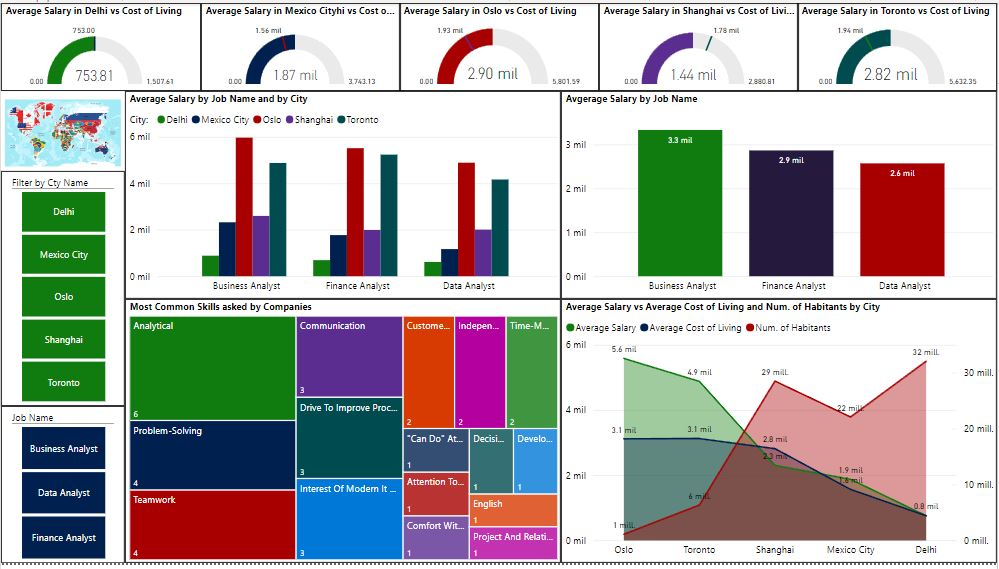

The page's visual inventory and layout, read from the dashboard file:
{"tool":"powerbi","page":{"name":"Página 1","canvas":[1280,720],"ordinal":1},"visuals":[{"type":"image","box":[0,36,159.4,260.9],"z":500},{"type":"clusteredColumnChart","title":"Avgerage Salary by Job Name","fields":{"Y":["Avg(jobs_countries_analysis careers.avg_salary)"],"Category":["jobs_countries_analysis jobs.job_name"]},"box":[719.7,113.1,560.3,267.3],"z":1000},{"type":"areaChart","title":"Average Salary vs Average Cost of Living and Num. of Habitants by City","fields":{"Category":["jobs_countries_analysis city.city_name"],"Y":["Avg(jobs_countries_analysis careers.avg_salary)","Avg(jobs_countries_analysis city.cost_of_living)"],"Y2":["Avg(jobs_countries_analysis city.num_of_habitants)"]},"box":[719.7,380.4,560.3,339.3],"z":2000},{"type":"clusteredColumnChart","title":"Average Salary by Job Name and by City","fields":{"Category":["jobs_countries_analysis jobs.job_name"],"Series":["jobs_countries_analysis city.city_name"],"Y":["Avg(jobs_countries_analysis careers.avg_salary)"]},"box":[159.4,113.1,560.3,267.3],"z":3000},{"type":"treemap","title":"Most Common Skills asked by Companies","fields":{"Group":["jobs_countries_analysis skills.skill_name"],"Values":["CountNonNull(jobs_countries_analysis skills_req.skill_id)"]},"box":[159.4,380.4,560.3,339.3],"z":4000},{"type":"slicer","fields":{"Values":["jobs_countries_analysis city.city_name"]},"box":[0,215.9,159.4,302],"z":5000},{"type":"slicer","fields":{"Values":["jobs_countries_analysis jobs.job_name"]},"box":[0,517.9,159.4,201.8],"z":6000},{"type":"gauge","title":"Average Salary in Delhi vs Cost of Living","fields":{"TargetValue":["Avg(jobs_countries_analysis city.cost_of_living)"],"Y":["Avg(jobs_countries_analysis careers.avg_salary)"]},"box":[0,0,257,113.1],"z":7000},{"type":"gauge","title":"Average Salary in Mexico Cityhi vs Cost of Living","fields":{"TargetValue":["Avg(jobs_countries_analysis city.cost_of_living)"],"Y":["Avg(jobs_countries_analysis careers.avg_salary)"]},"box":[257,0,257,113.1],"z":8000},{"type":"gauge","title":"Average Salary in Oslo vs Cost of Living","fields":{"TargetValue":["Avg(jobs_countries_analysis city.cost_of_living)"],"Y":["Avg(jobs_countries_analysis careers.avg_salary)"]},"box":[511.5,0,257,113.1],"z":9000},{"type":"gauge","title":"Average Salary in Shanghai vs Cost of Living","fields":{"TargetValue":["Avg(jobs_countries_analysis city.cost_of_living)"],"Y":["Avg(jobs_countries_analysis careers.avg_salary)"]},"box":[768.5,0,257,113.1],"z":10000},{"type":"gauge","title":"Average Salary in Toronto vs Cost of Living","fields":{"TargetValue":["Avg(jobs_countries_analysis city.cost_of_living)"],"Y":["Avg(jobs_countries_analysis careers.avg_salary)"]},"box":[1023,0,257,113.1],"z":11000}]}

Visuals, with their boxes in screenshot pixels (x1, y1, x2, y2), scaled from the page's 1280x720 canvas onto the 999x569 screenshot:
image: 0/28/124/235
"Avgerage Salary by Job Name" clusteredColumnChart: 562/89/998/301
"Average Salary vs Average Cost of Living and Num. of Habitants by City" areaChart: 562/301/998/568
"Average Salary by Job Name and by City" clusteredColumnChart: 124/89/562/301
"Most Common Skills asked by Companies" treemap: 124/301/562/568
slicer - jobs_countries_analysis city.city_name: 0/171/124/409
slicer - jobs_countries_analysis jobs.job_name: 0/409/124/568
"Average Salary in Delhi vs Cost of Living" gauge: 0/0/201/89
"Average Salary in Mexico Cityhi vs Cost of Living" gauge: 201/0/401/89
"Average Salary in Oslo vs Cost of Living" gauge: 399/0/600/89
"Average Salary in Shanghai vs Cost of Living" gauge: 600/0/800/89
"Average Salary in Toronto vs Cost of Living" gauge: 798/0/998/89
